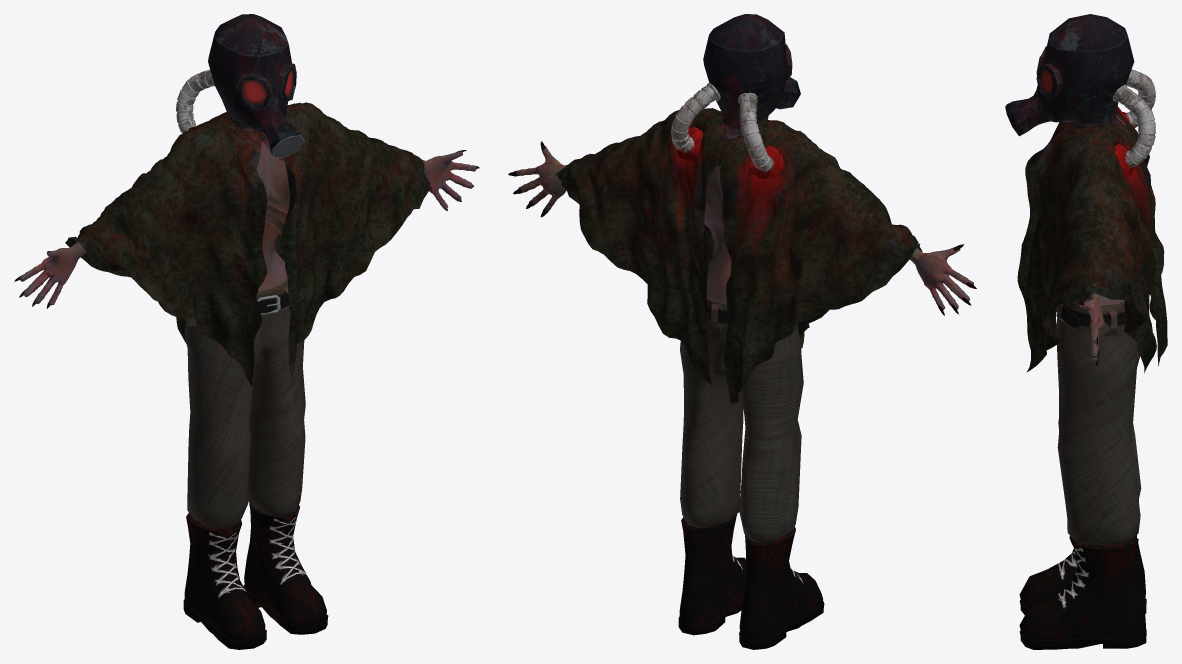
3 renders of one model, left to right at view 1: azimuth 30°, elevation 25°; view 2: azimuth 150°, elevation 25°; view 3: azimuth 270°, elevation 25°, orthographic.
Parts seen in each view (by area): view 1: UPPER_PART; view 2: UPPER_PART; view 3: UPPER_PART.
Part boxes in pixels (x1,y1,x2,y2): UPPER_PART: (14,14,479,649); UPPER_PART: (508,14,976,649); UPPER_PART: (1005,14,1167,649).
Size of the model in its own units: 137 by 169 by 40.93.
Materials: 1 (1 with a texture image).
